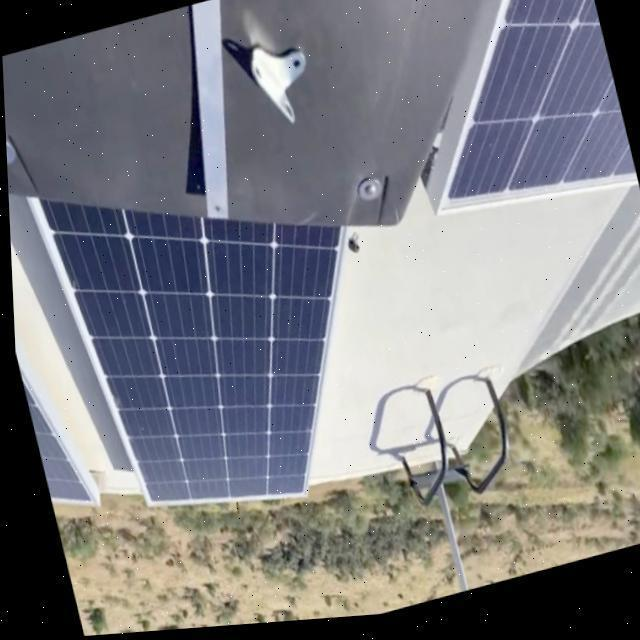Normal Solar Panel: (29, 131, 400, 548), (374, 0, 637, 246), (11, 300, 86, 513)
